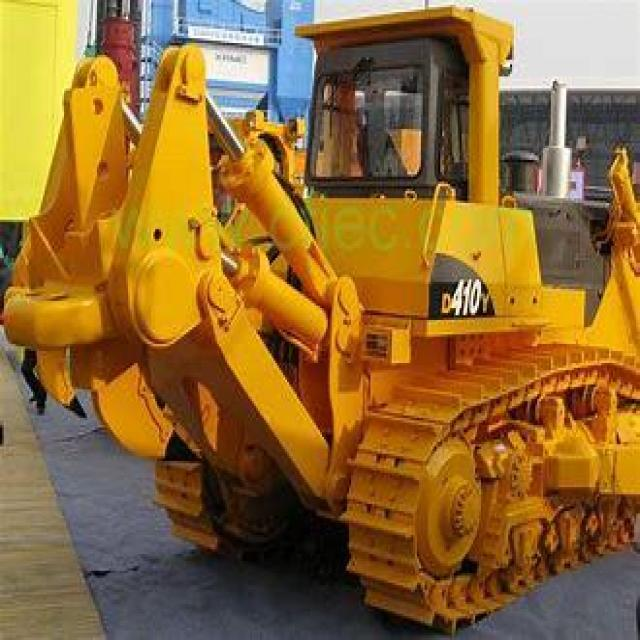buldozerpayloadergrader: (21, 0, 638, 633)
